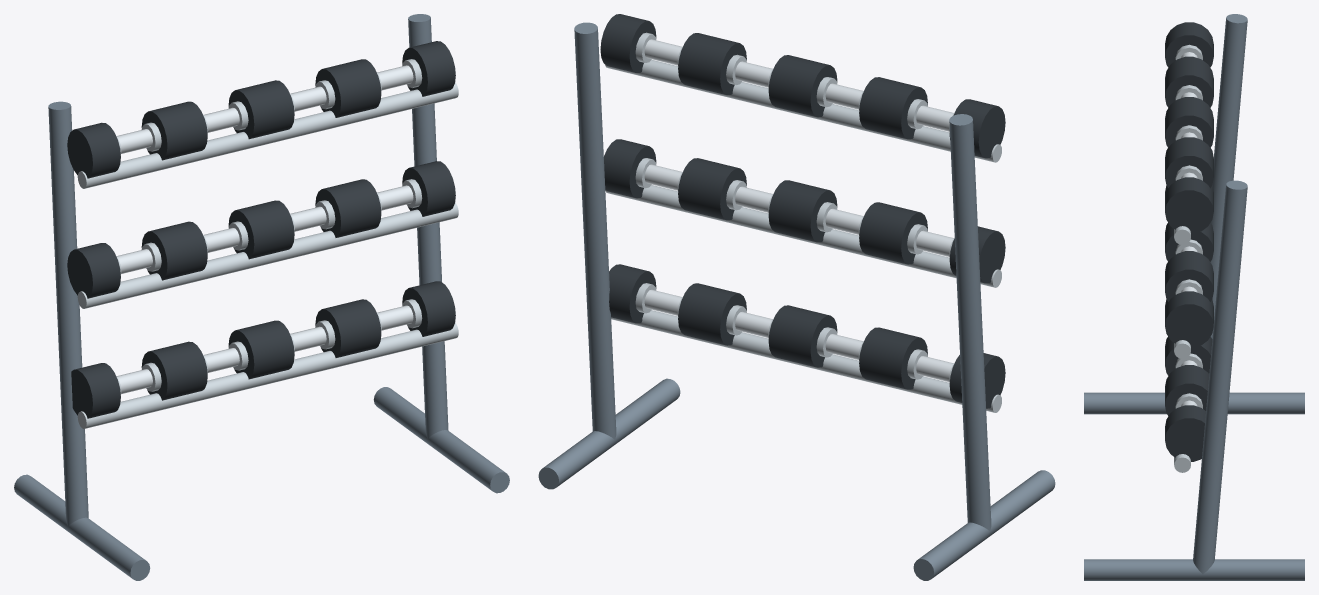
Rendered from weights_rack01.glb.
The picture shows the model from 3 angles, left to right: view 1: azimuth 30°, elevation 25°; view 2: azimuth 150°, elevation 25°; view 3: azimuth 270°, elevation 25°; orthographic projection. The views are drawn at different scales.
Parts seen in each view (by area): view 1: plates_rubber_dark_4, shelf_bar_steel_brushed_2, legs_steel_painted_0, grip_chrome_3, base_steel_painted_1, collars_steel_brushed_5; view 2: plates_rubber_dark_4, legs_steel_painted_0, shelf_bar_steel_brushed_2, grip_chrome_3, base_steel_painted_1, collars_steel_brushed_5; view 3: plates_rubber_dark_4, legs_steel_painted_0, base_steel_painted_1, collars_steel_brushed_5, shelf_bar_steel_brushed_2, grip_chrome_3.
Part boxes in pixels (bbox=[...]): plates_rubber_dark_4: bbox=[67, 41, 455, 418]; shelf_bar_steel_brushed_2: bbox=[77, 82, 458, 428]; legs_steel_painted_0: bbox=[48, 14, 448, 526]; grip_chrome_3: bbox=[117, 65, 413, 394]; base_steel_painted_1: bbox=[14, 387, 509, 580]; collars_steel_brushed_5: bbox=[116, 59, 422, 394]; plates_rubber_dark_4: bbox=[600, 14, 1005, 408]; legs_steel_painted_0: bbox=[574, 22, 991, 531]; shelf_bar_steel_brushed_2: bbox=[605, 59, 1001, 412]; grip_chrome_3: bbox=[644, 39, 953, 381]; base_steel_painted_1: bbox=[538, 378, 1055, 580]; collars_steel_brushed_5: bbox=[635, 32, 954, 382]; plates_rubber_dark_4: bbox=[1165, 22, 1213, 461]; legs_steel_painted_0: bbox=[1193, 14, 1247, 574]; base_steel_painted_1: bbox=[1084, 392, 1304, 580]; collars_steel_brushed_5: bbox=[1175, 44, 1202, 408]; shelf_bar_steel_brushed_2: bbox=[1174, 226, 1190, 472]; grip_chrome_3: bbox=[1181, 52, 1197, 406].
Size of the model in its own units: 1.22 by 1.28 by 0.65.
